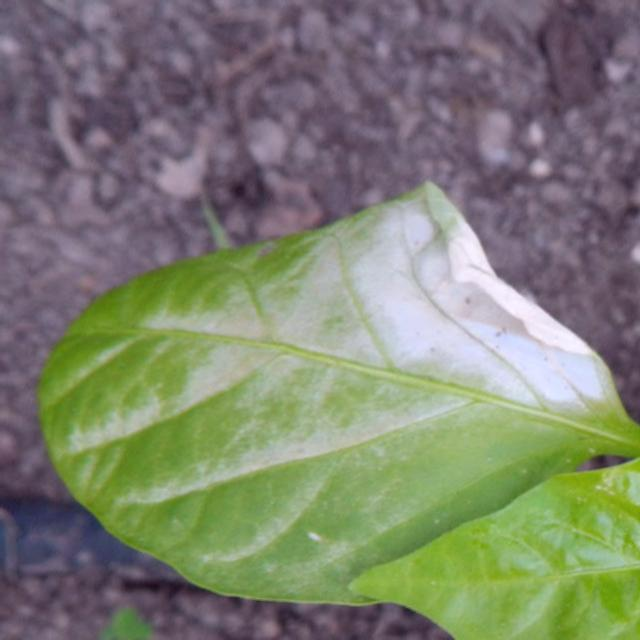Tomato leaf: (369, 444, 640, 640)
